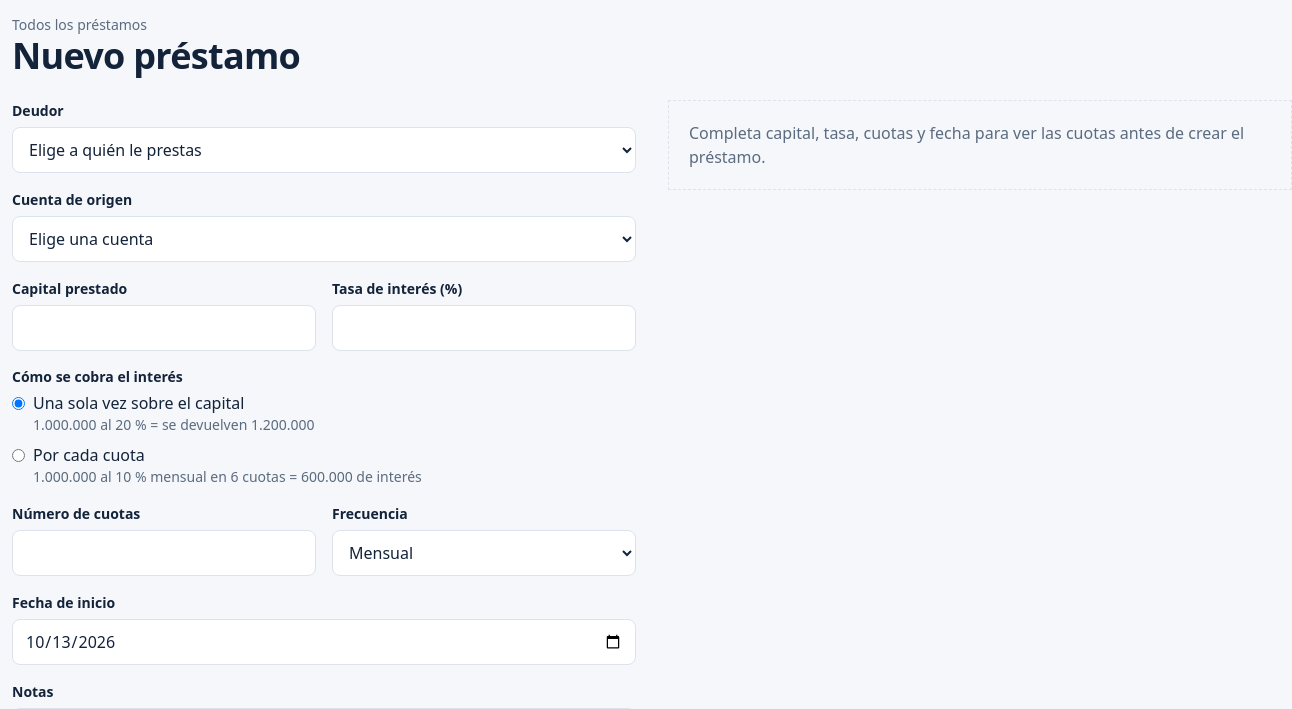
Test: shows schedule preview before creating
The width and height of the screenshot is (1292, 709).
Select "Luis Pérez" in the dropdown labelled "Deudor". click: {"x": 324, "y": 150}
box: [12,127,636,173]
Select "Bancolombia ($ 2.000.000)" in the dropdown labelled "Cuenta de origen". click: {"x": 324, "y": 239}
box: [12,216,636,262]
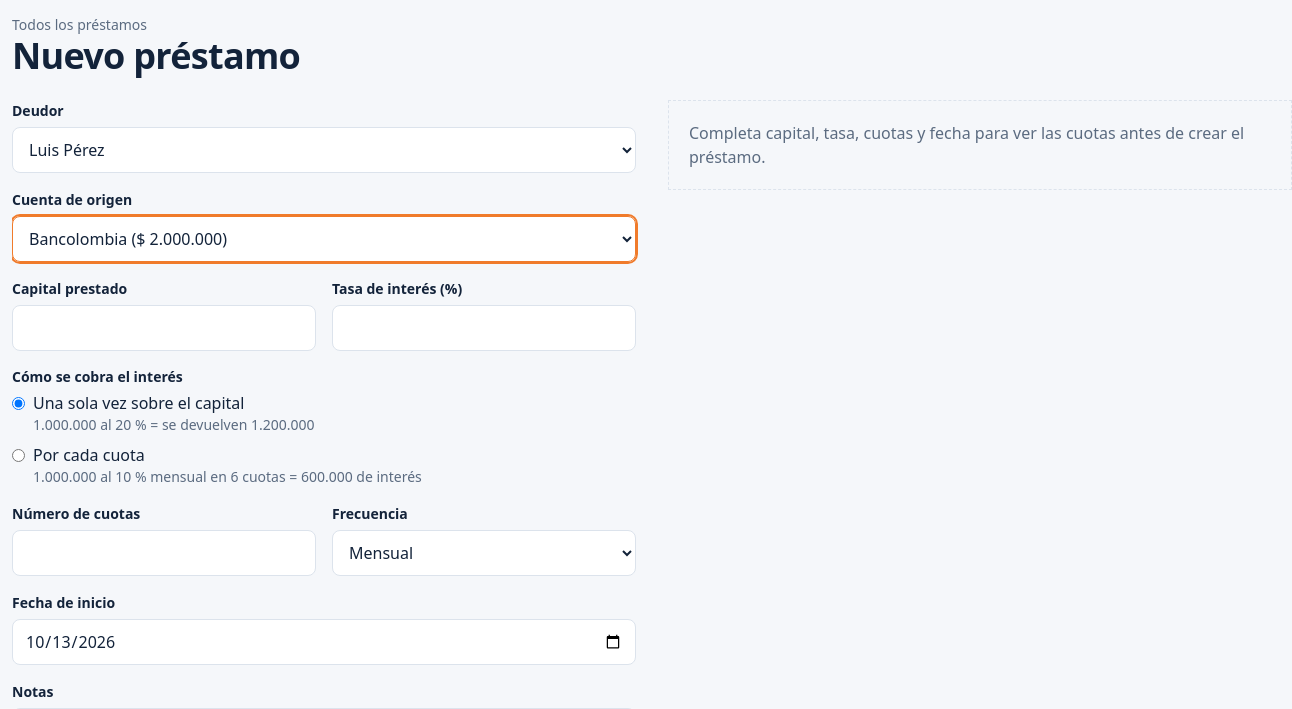
Type "1000000" into the field labelled "Capital prestado". click: {"x": 164, "y": 328}
box: [12,305,316,351]
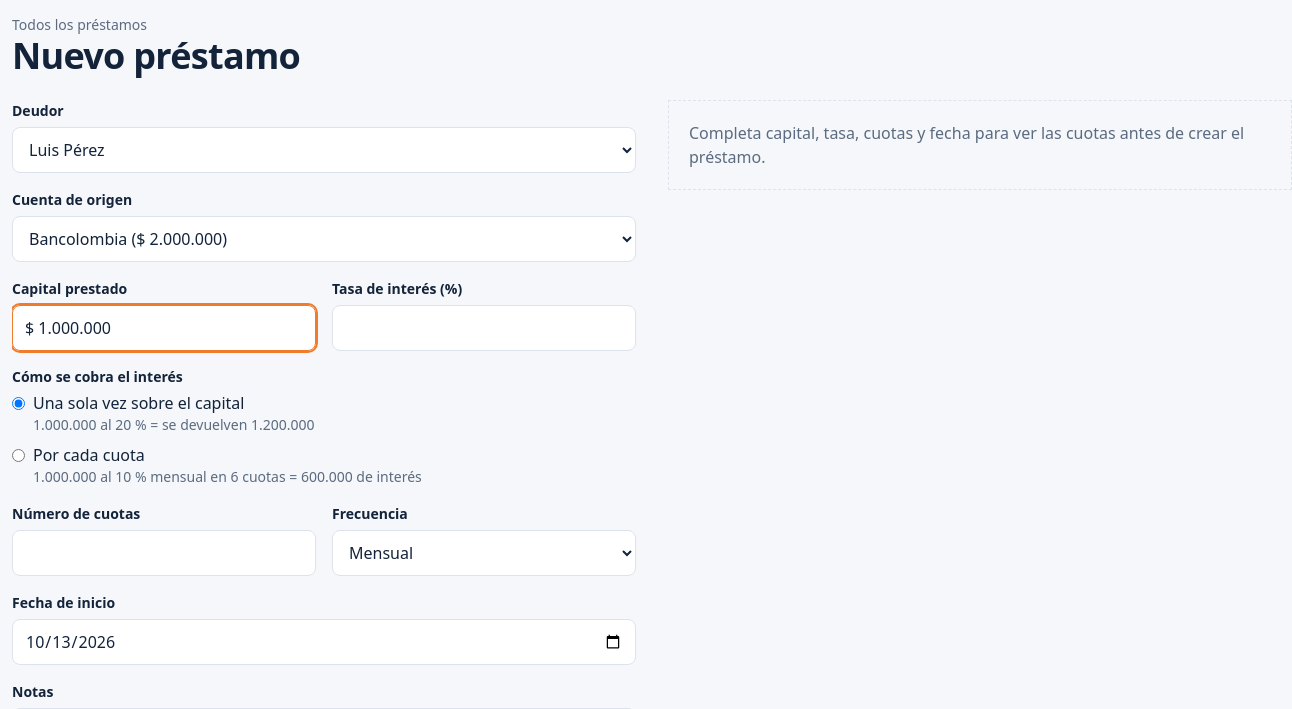
Type "20" into the field labelled "Tasa de interés (%)". click: {"x": 484, "y": 328}
box: [332,305,636,351]
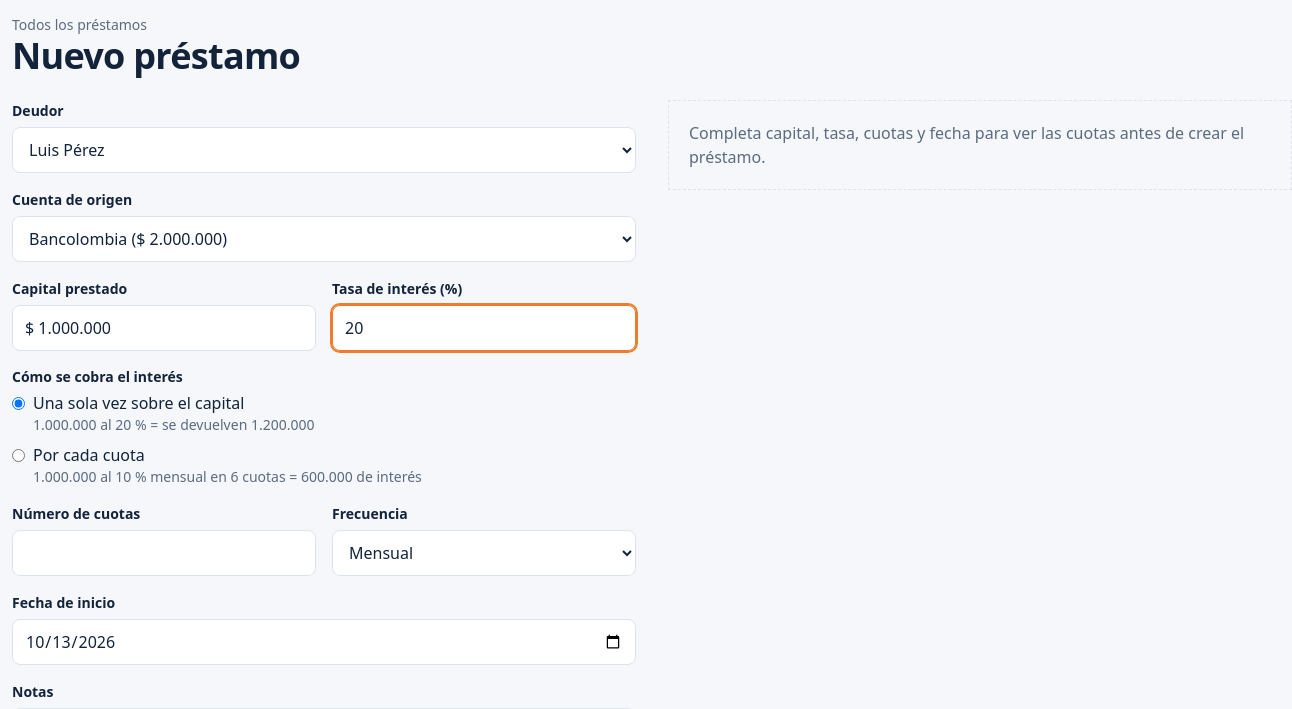
Type "3" into the number field labelled "Número de cuotas". click: {"x": 164, "y": 553}
box: [12,530,316,576]
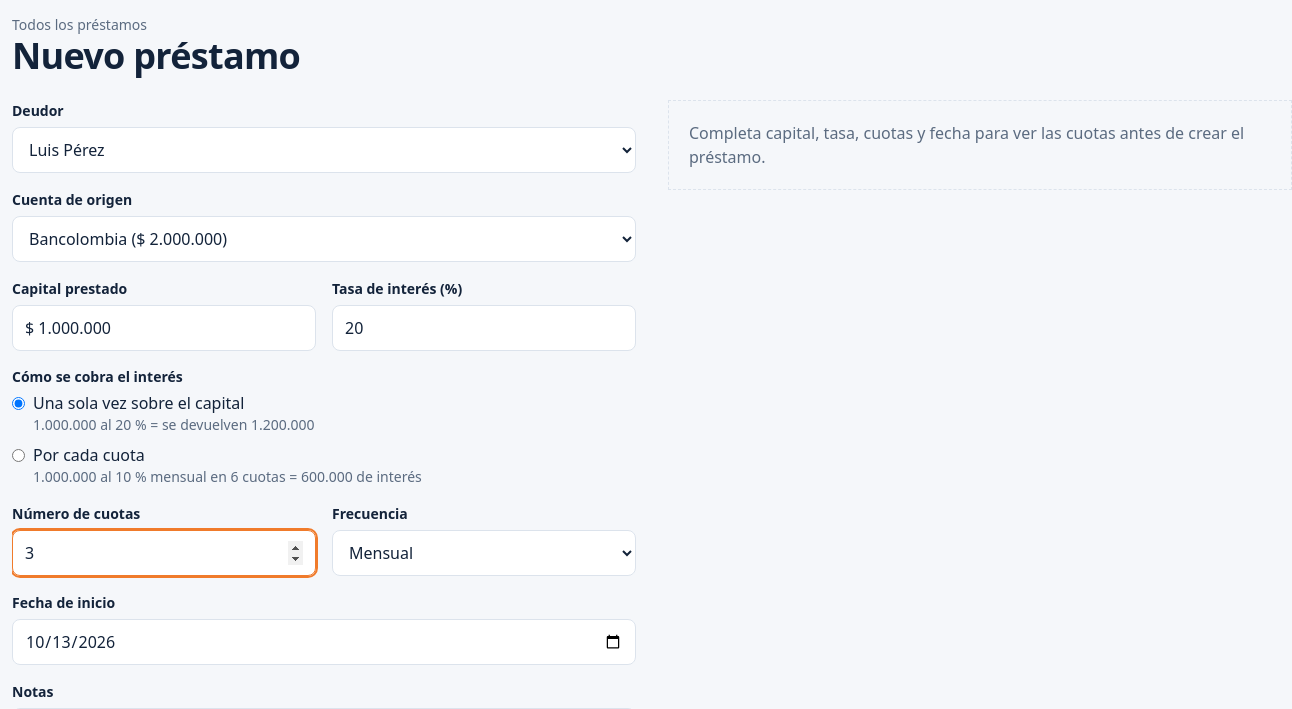
Select "Mensual" in the dropdown labelled "Frecuencia". click: {"x": 484, "y": 553}
box: [332,530,636,576]
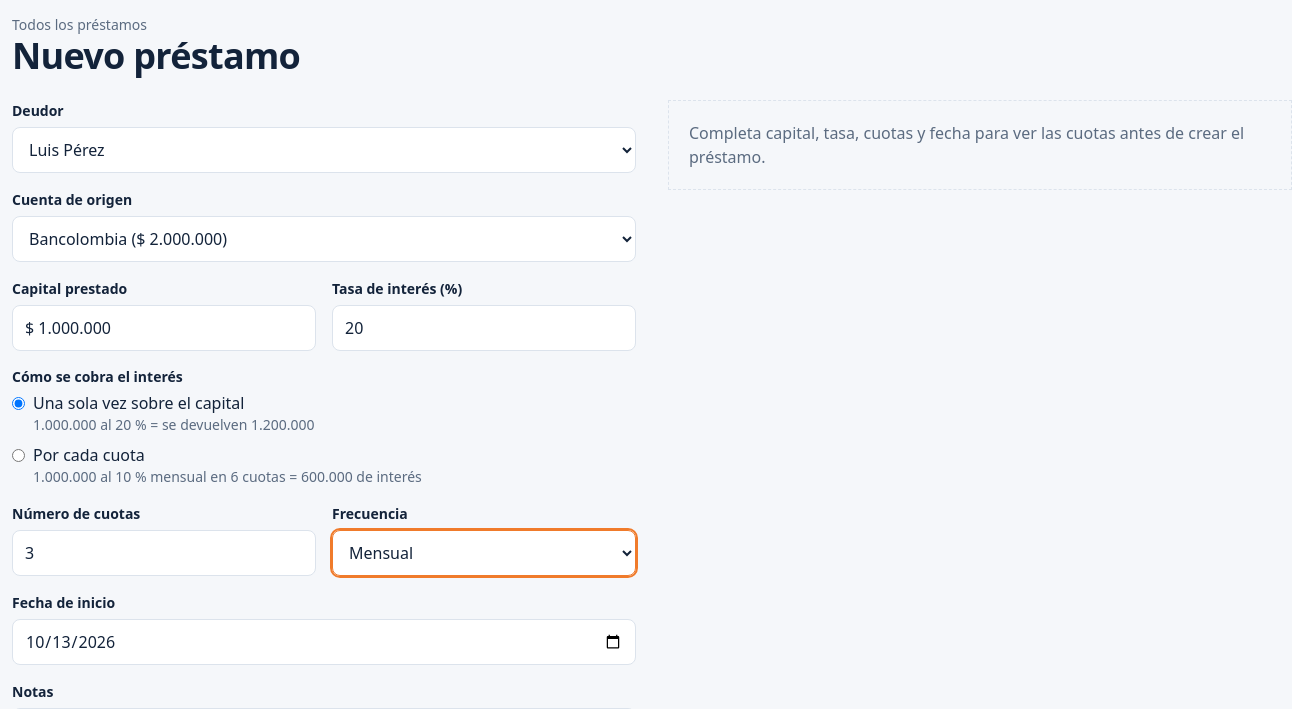
Type "2026-01-31" into the date field labelled "Fecha de inicio". click: {"x": 324, "y": 642}
box: [12,619,636,665]
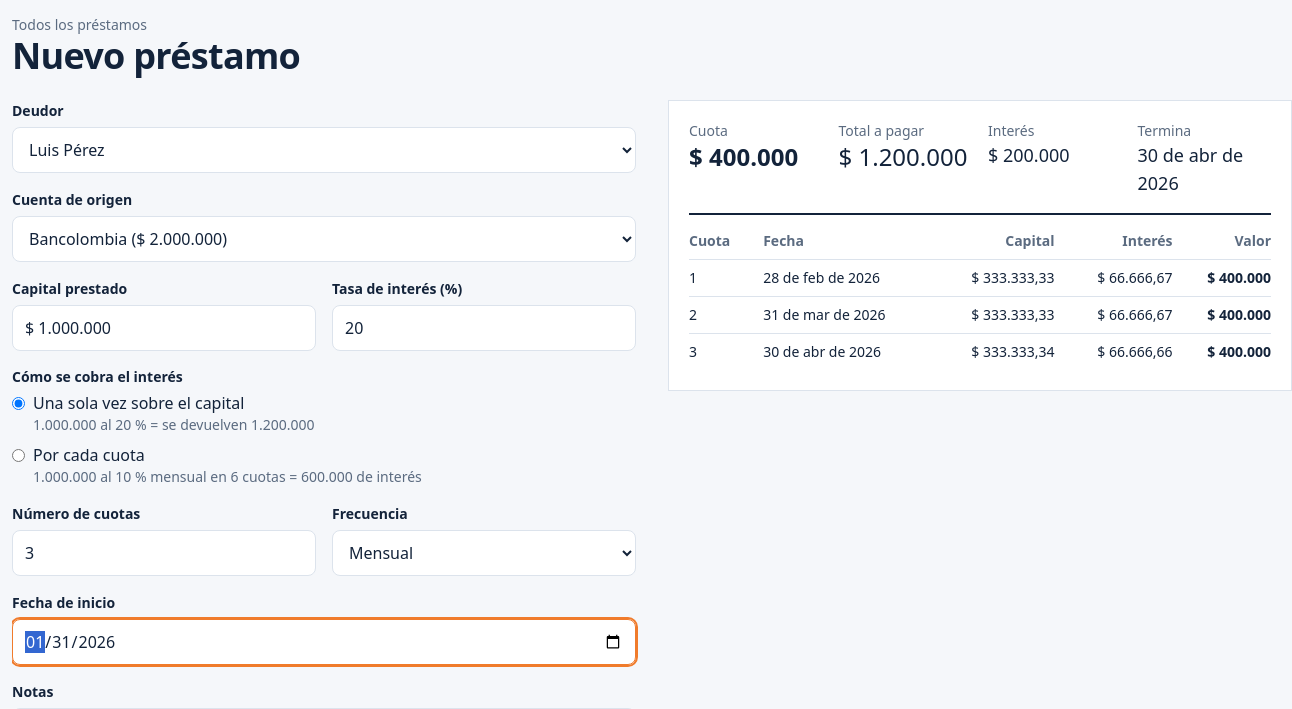
Check: the number of rows is 4, box [689,223,1271,260]; [689,260,1271,296]; [689,296,1271,334]; [689,334,1271,370]
